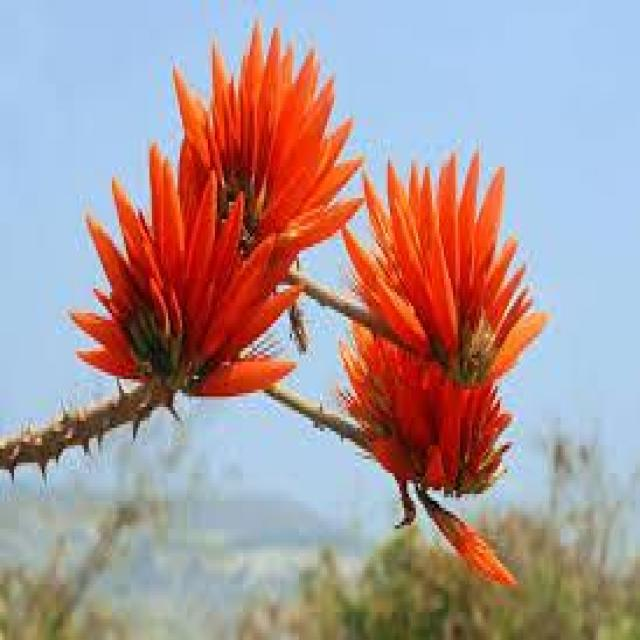organic waste: (73, 12, 347, 402), (346, 141, 532, 499)
